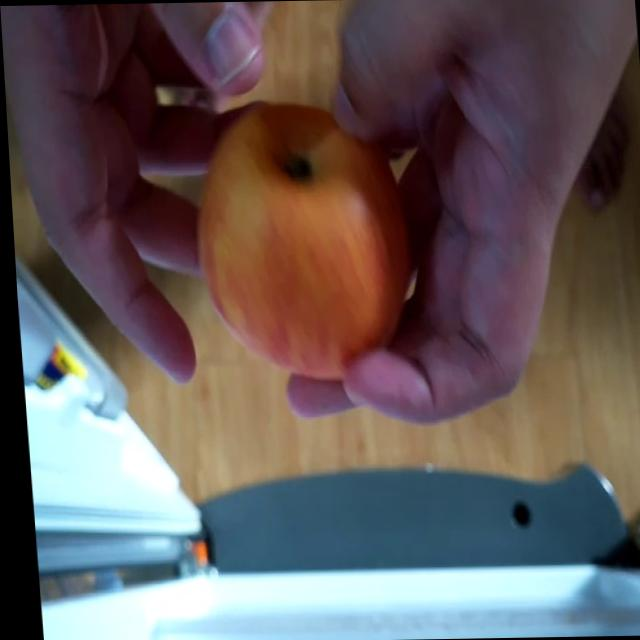apple: (179, 98, 419, 382)
